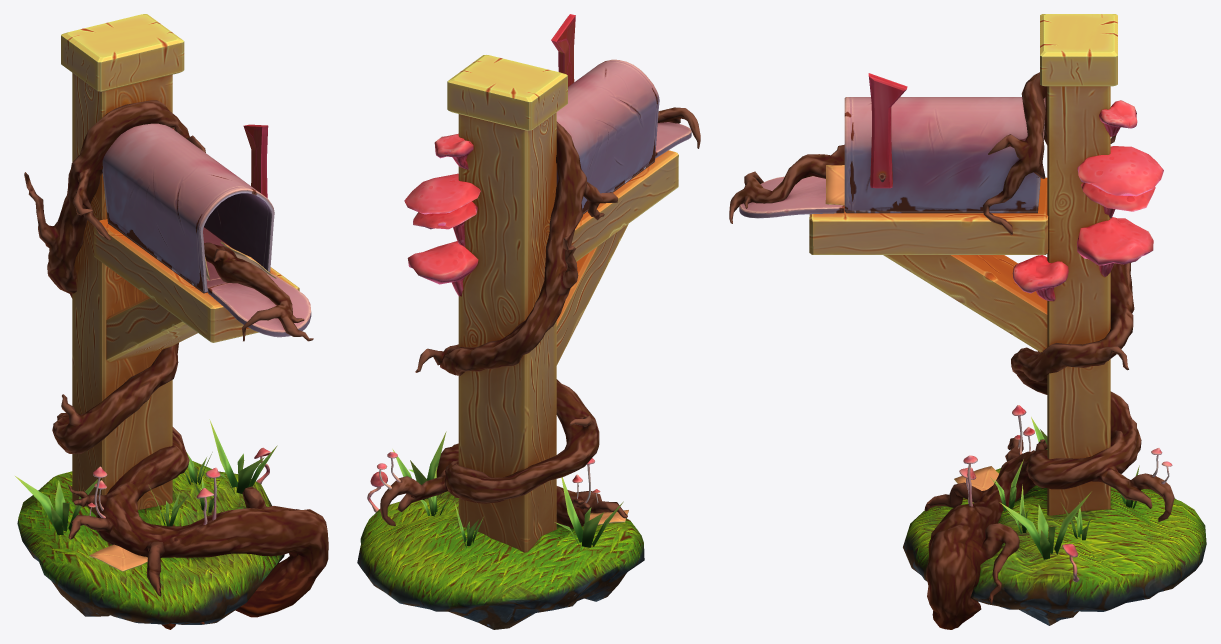
3 views of the same model, side by side, from view 1: azimuth 30°, elevation 25°; view 2: azimuth 150°, elevation 25°; view 3: azimuth 270°, elevation 25° (orthographic). The views are drawn at different scales.
Parts seen in each view (by area): view 1: wood_low.001, stolb_low, zemlya_low, box_low, doska1_low, doska2_low, grass_low.001, kryshka_low, flag_low, mail_low.003; view 2: stolb_low, zemlya_low, wood_low.001, box_low, doska1_low, doska2_low, grass_low.001, mash2_low, mash4_low, mash3_low, flag_low, mash_low (+1 smaller); view 3: wood_low.001, stolb_low, zemlya_low, box_low, doska1_low, doska2_low, mash4_low, mash2_low, flag_low, grass_low.001, kryshka_low, mash5_low (+3 smaller).
Part boxes in pixels (x1,y1,x2,y2): wood_low.001: [24, 100, 328, 629]; stolb_low: [61, 14, 184, 515]; zemlya_low: [17, 461, 284, 624]; box_low: [102, 123, 274, 293]; doska1_low: [94, 219, 299, 342]; doska2_low: [106, 296, 197, 362]; grass_low.001: [15, 419, 277, 534]; kryshka_low: [208, 273, 311, 337]; flag_low: [243, 124, 268, 197]; mail_low.003: [89, 544, 147, 571]; stolb_low: [447, 55, 567, 552]; zemlya_low: [357, 491, 644, 629]; wood_low.001: [380, 107, 700, 528]; box_low: [556, 59, 659, 214]; doska1_low: [571, 150, 678, 261]; doska2_low: [556, 224, 628, 365]; grass_low.001: [392, 431, 623, 548]; mash2_low: [407, 241, 478, 296]; mash4_low: [404, 173, 480, 214]; mash3_low: [413, 201, 477, 246]; flag_low: [551, 14, 575, 86]; mash_low: [434, 133, 473, 169]; wood_low.001: [729, 72, 1174, 629]; stolb_low: [1040, 14, 1117, 515]; zemlya_low: [903, 468, 1206, 625]; box_low: [844, 97, 1045, 213]; doska1_low: [809, 177, 1048, 254]; doska2_low: [883, 255, 1047, 352]; mash4_low: [1077, 146, 1163, 196]; mash2_low: [1077, 217, 1153, 276]; flag_low: [868, 73, 907, 188]; grass_low.001: [990, 417, 1145, 559]; kryshka_low: [739, 176, 844, 218]; mash5_low: [1012, 255, 1068, 301].
Bounding box in the file's own units: 1.21 × 2.55 × 2.
Materials: 3 (3 with a texture image).
